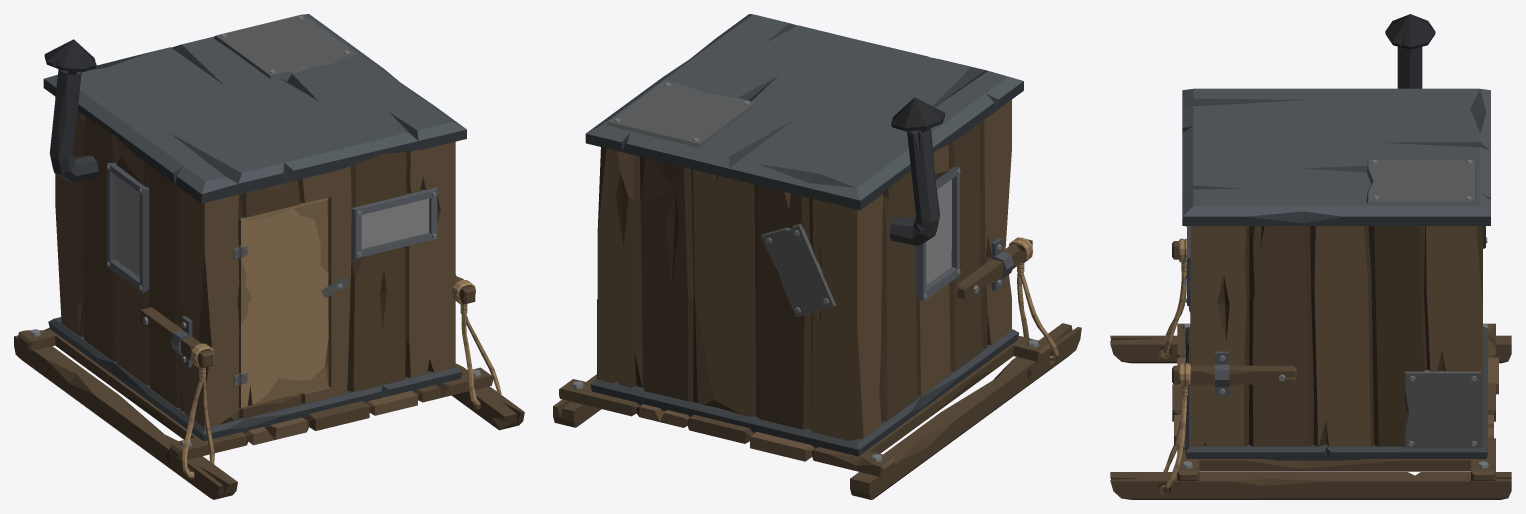
The model's file is pass_hut.gltf.
3 renders of one model, left to right at view 1: azimuth 30°, elevation 25°; view 2: azimuth 150°, elevation 25°; view 3: azimuth 270°, elevation 25°, orthographic. The views are drawn at different scales.
Visible parts, largest first — view 1: pass_hut; view 2: pass_hut; view 3: pass_hut.
Boxes of the visible parts, box(x1,y1,x2,y2) form: pass_hut: box(14, 14, 524, 499); pass_hut: box(553, 14, 1081, 499); pass_hut: box(1110, 14, 1511, 499).
Bounding box in the file's own units: 3.34 × 3.41 × 3.59.
1 material, 1 textured.
